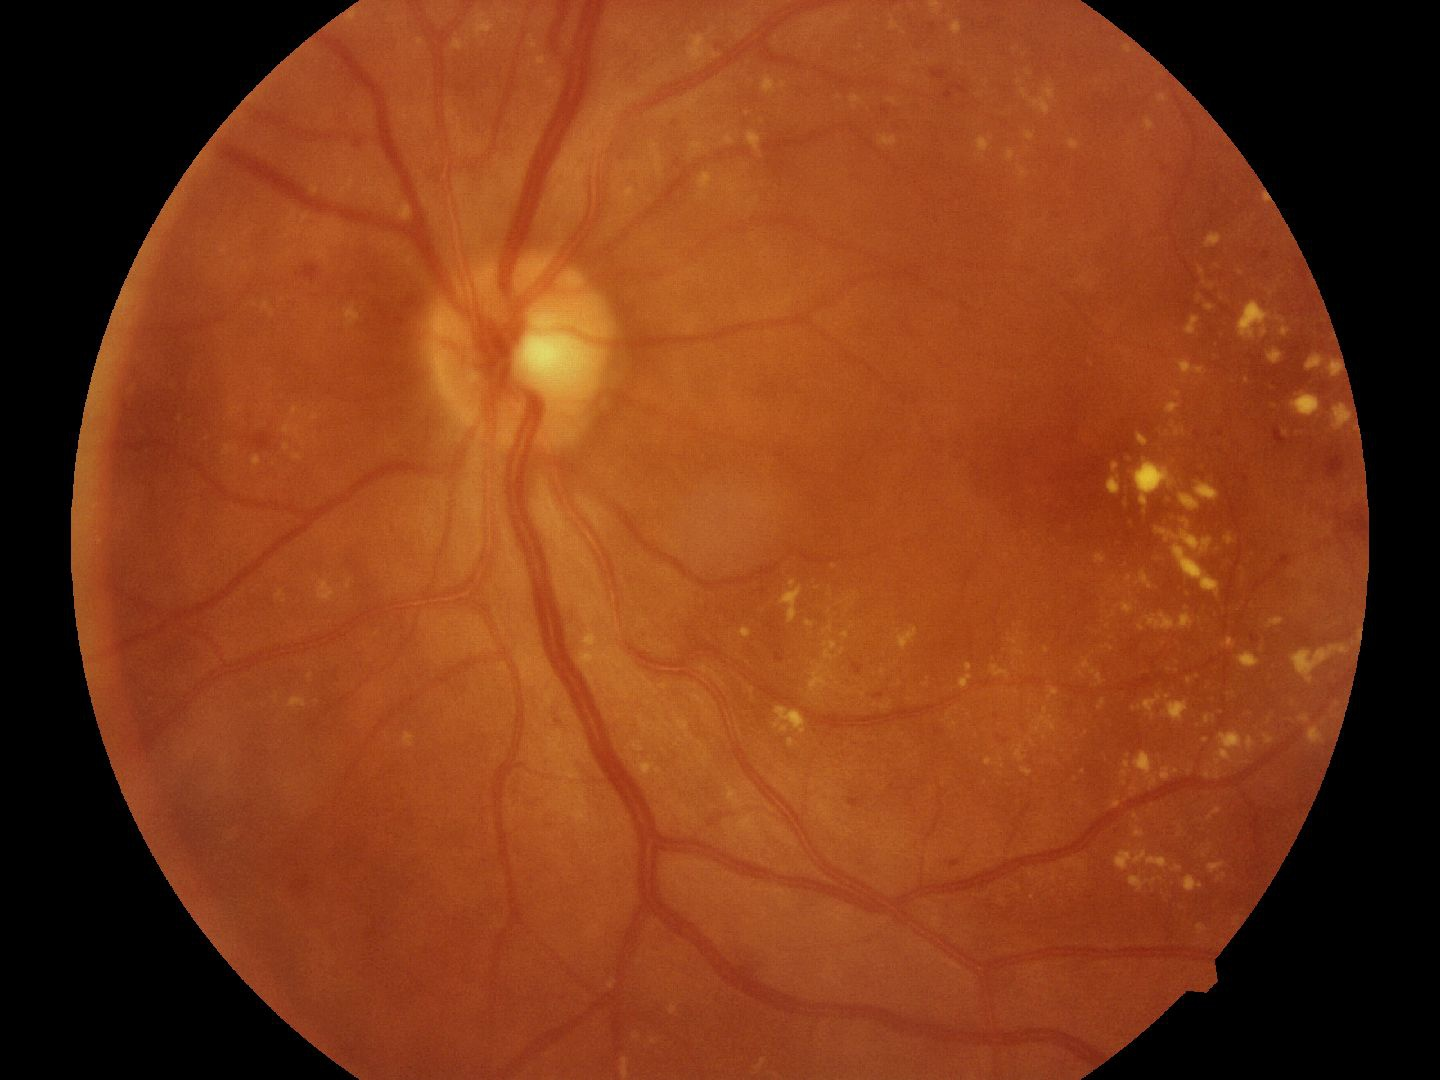Exudates: (1196, 261, 1352, 452), (1135, 680, 1250, 904), (1130, 438, 1235, 590)
Optic-Disc: (432, 248, 619, 459)
Venules: (513, 497, 653, 864)
